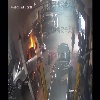fire: (23, 37, 41, 74)
